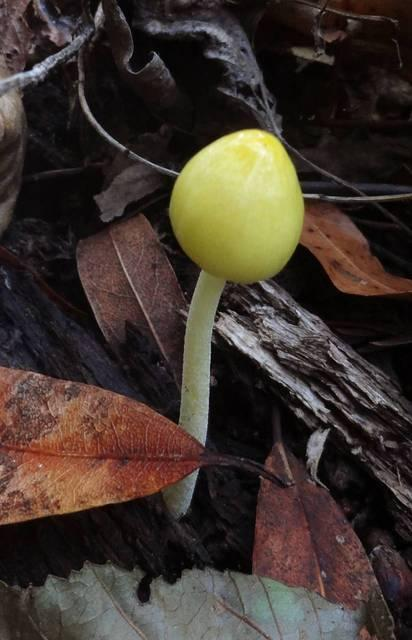Edible Mushroom: (158, 126, 305, 521)
